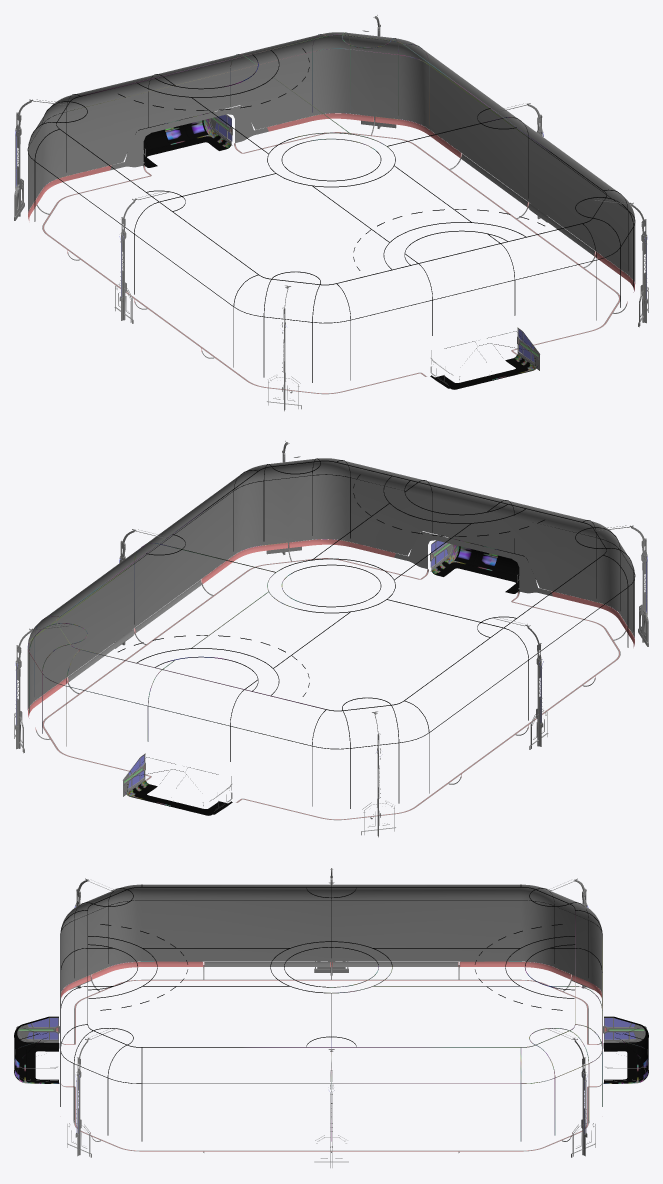
File: champions-field-playable.glb
3 renders of one model, top to bottom at view 1: azimuth 30°, elevation 25°; view 2: azimuth 150°, elevation 25°; view 3: azimuth 270°, elevation 25°, orthographic. The views are drawn at different scales.
Visible parts, largest first — view 1: CS_FieldHexShell_01, CS_Lattice_01, CS_FieldWallsGlass_01 (×3), CS_FieldLightsCombined_01, CS_FieldGoalInner_02 (×2), CS_FieldGoalInner_03; view 2: CS_FieldHexShell_01, CS_Lattice_01, CS_FieldWallsGlass_01 (×3), CS_FieldLightsCombined_01, CS_FieldGoalInner_02 (×2), CS_FieldGoalInner_03; view 3: CS_FieldHexShell_01, CS_Lattice_01, CS_FieldGoalInner_02 (×2), CS_FieldWallsGlass_01 (×2), CS_FieldLightsCombined_01, CS_FieldLightTrim_01 (×4), CS_FieldGoalInner_03 (×2).
Boxes of the visible parts, x1,y1,x2,y2 form: CS_FieldHexShell_01: (28,32,635,283); CS_Lattice_01: (27,32,635,382); CS_FieldWallsGlass_01 (×3): (28,106,634,304); CS_FieldLightsCombined_01: (14,15,648,411); CS_FieldGoalInner_02 (×2): (135,111,538,389); CS_FieldGoalInner_03: (430,328,540,385); CS_FieldHexShell_01: (27,458,634,709); CS_Lattice_01: (27,458,635,808); CS_FieldWallsGlass_01 (×3): (28,532,634,730); CS_FieldLightsCombined_01: (14,441,648,837); CS_FieldGoalInner_02 (×2): (124,537,535,815); CS_FieldGoalInner_03: (122,754,232,811); CS_FieldHexShell_01: (61,884,601,992); CS_Lattice_01: (60,884,602,1141); CS_FieldGoalInner_02 (×2): (14,1016,648,1083); CS_FieldWallsGlass_01 (×2): (61,962,601,997); CS_FieldLightsCombined_01: (67,868,595,1167); CS_FieldLightTrim_01 (×4): (61,979,601,1151); CS_FieldGoalInner_03 (×2): (16,1017,646,1081).
Size of the model in its own units: 87.92 by 23.58 by 120.
